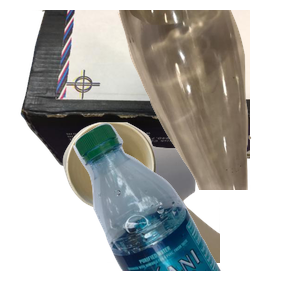cardboard: (18, 10, 258, 171)
glass: (115, 10, 300, 190)
plastic: (71, 120, 300, 300)
trash: (60, 120, 300, 300)
